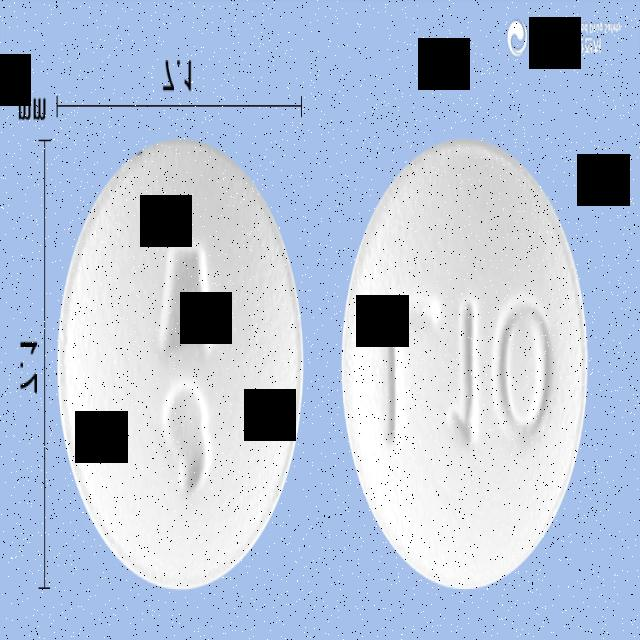Leflu - 20mg: (340, 137, 590, 597), (55, 140, 305, 597)
